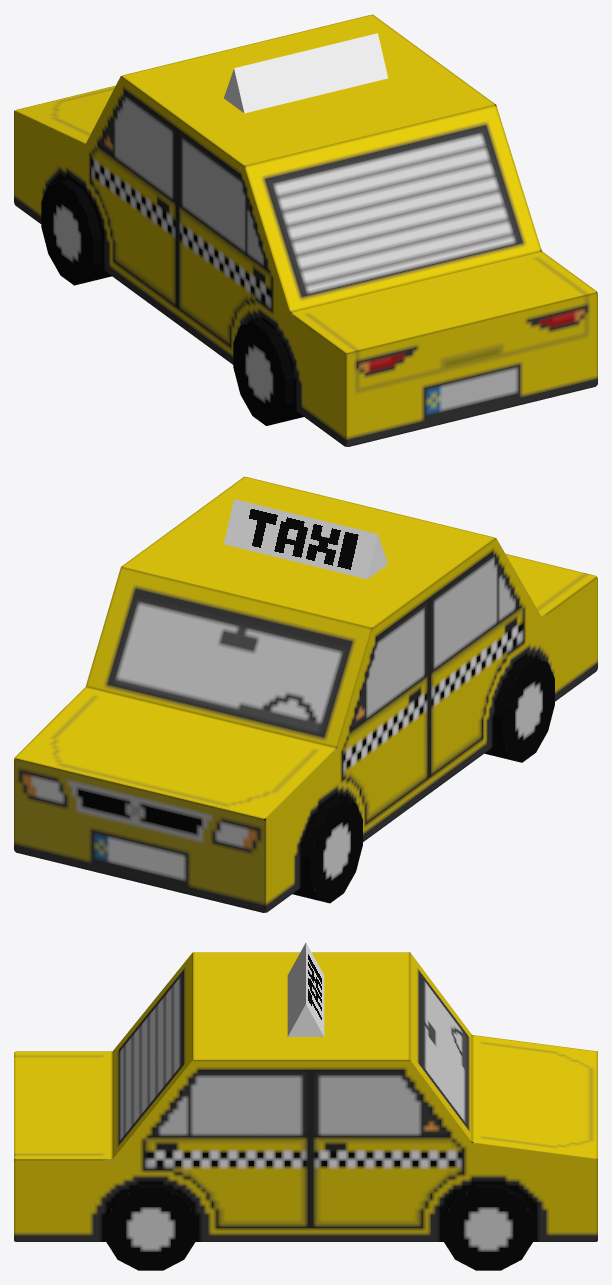
The model's file is sedan_taxi.obj.
3 views of the same model, one above another, from view 1: azimuth 30°, elevation 25°; view 2: azimuth 150°, elevation 25°; view 3: azimuth 270°, elevation 25° (orthographic). The views are drawn at different scales.
Parts seen in each view (by area): view 1: body, wheel, sign; view 2: body, wheel, sign; view 3: body, wheel, sign.
Boxes of the visible parts, x1,y1,x2,y2 form: body: (14, 14, 597, 446); wheel: (41, 179, 303, 425); sign: (224, 33, 387, 113); body: (14, 476, 597, 912); wheel: (264, 656, 554, 903); sign: (224, 499, 387, 579); body: (14, 952, 597, 1241); wheel: (105, 1141, 533, 1270); sign: (287, 943, 324, 1036).
Size of the model in its own units: 1.88 by 1.81 by 4.
